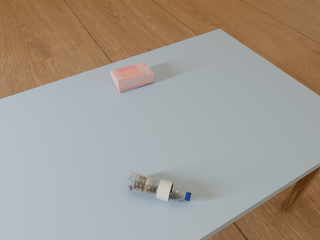book: (111, 61, 154, 93)
bottle: (127, 172, 191, 202)
